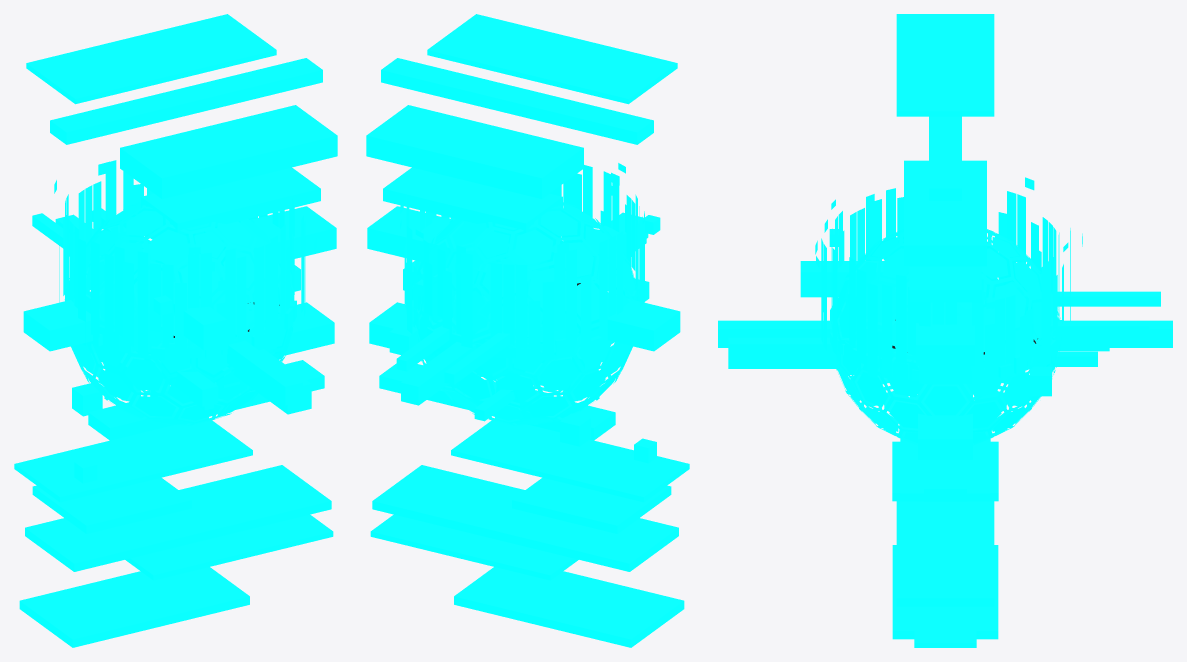
File: GlitchVFX.fbx
The picture shows the model from 3 angles, left to right: view 1: azimuth 30°, elevation 25°; view 2: azimuth 150°, elevation 25°; view 3: azimuth 270°, elevation 25°; orthographic projection.
Parts seen in each view (by area): view 1: Slivers_Energy, ScanWave_Energy, HexShell_Energy, Streak_Energy, HexEdge_Energy, PixelSpray_Energy, PixelRing_Energy; view 2: Slivers_Energy, ScanWave_Energy, HexShell_Energy, Streak_Energy, HexEdge_Energy, PixelSpray_Energy, PixelRing_Energy, ShellCrack_Energy, Pixels_Energy; view 3: Slivers_Energy, ScanWave_Energy, HexShell_Energy, Streak_Energy, HexEdge_Energy, PixelRing_Energy, PixelSpray_Energy.
Part boxes in pixels (x1=…): Slivers_Energy: x1=14, y1=14, x2=337, y2=647; ScanWave_Energy: x1=54, y1=160, x2=316, y2=357; HexShell_Energy: x1=65, y1=203, x2=292, y2=424; Streak_Energy: x1=32, y1=208, x2=311, y2=414; HexEdge_Energy: x1=64, y1=202, x2=293, y2=425; PixelSpray_Energy: x1=72, y1=225, x2=225, y2=483; PixelRing_Energy: x1=65, y1=270, x2=296, y2=359; Slivers_Energy: x1=366, y1=14, x2=689, y2=647; ScanWave_Energy: x1=400, y1=163, x2=644, y2=360; HexShell_Energy: x1=412, y1=203, x2=637, y2=424; Streak_Energy: x1=396, y1=212, x2=649, y2=421; HexEdge_Energy: x1=412, y1=202, x2=637, y2=425; PixelSpray_Energy: x1=389, y1=215, x2=660, y2=463; PixelRing_Energy: x1=406, y1=255, x2=639, y2=358; ShellCrack_Energy: x1=415, y1=267, x2=542, y2=408; Pixels_Energy: x1=456, y1=230, x2=554, y2=363; Slivers_Energy: x1=892, y1=14, x2=998, y2=647; ScanWave_Energy: x1=815, y1=177, x2=1082, y2=394; HexShell_Energy: x1=836, y1=229, x2=1057, y2=444; Streak_Energy: x1=718, y1=261, x2=1172, y2=374; HexEdge_Energy: x1=831, y1=229, x2=1058, y2=445; PixelRing_Energy: x1=830, y1=281, x2=1061, y2=383; PixelSpray_Energy: x1=829, y1=229, x2=1051, y2=430.
Bounding box in the file's own units: 2.87 × 5.26 × 4.
